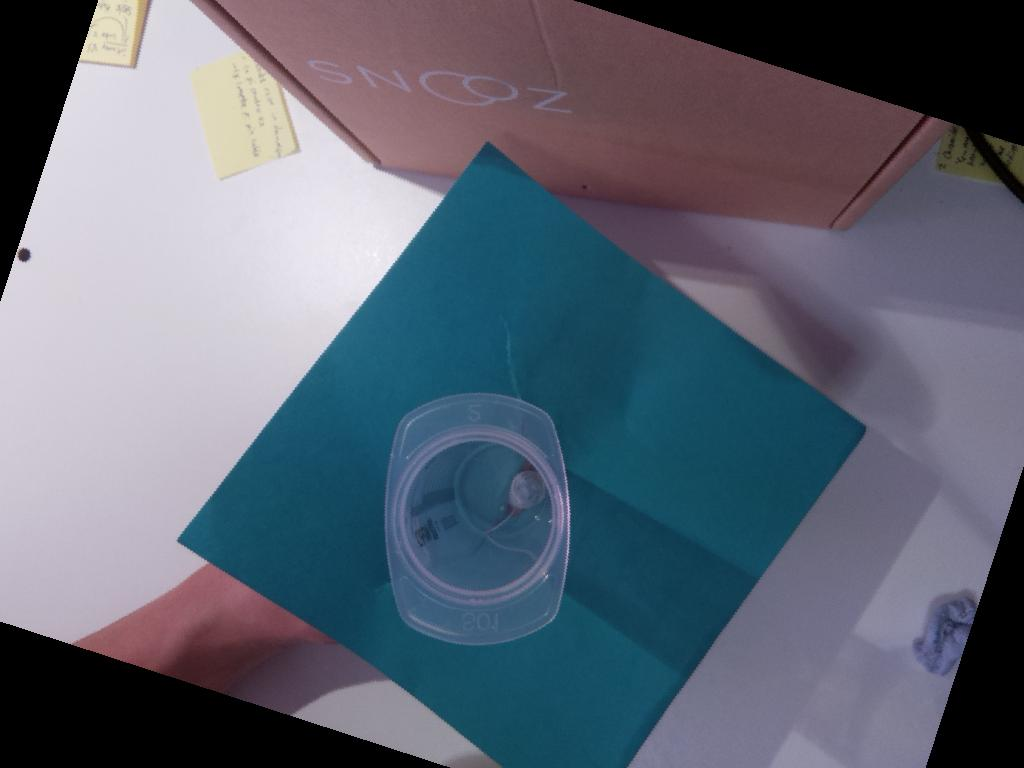clean: (382, 390, 572, 644)
